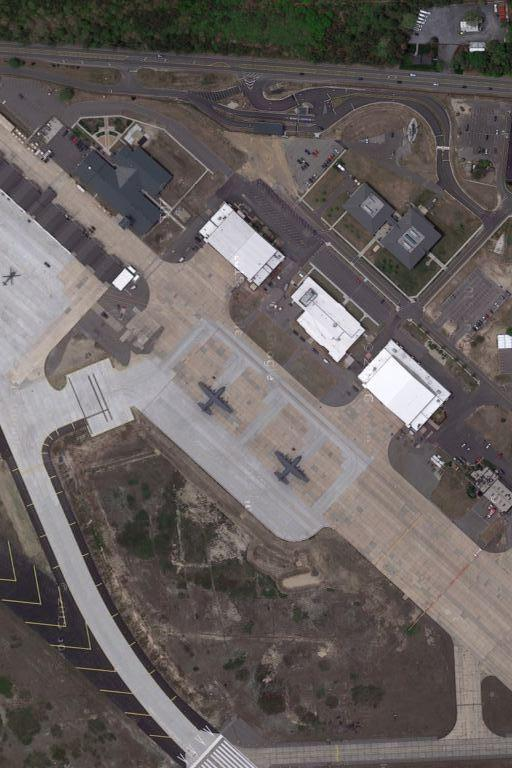C-130: (195, 381, 235, 420), (272, 446, 309, 488)
